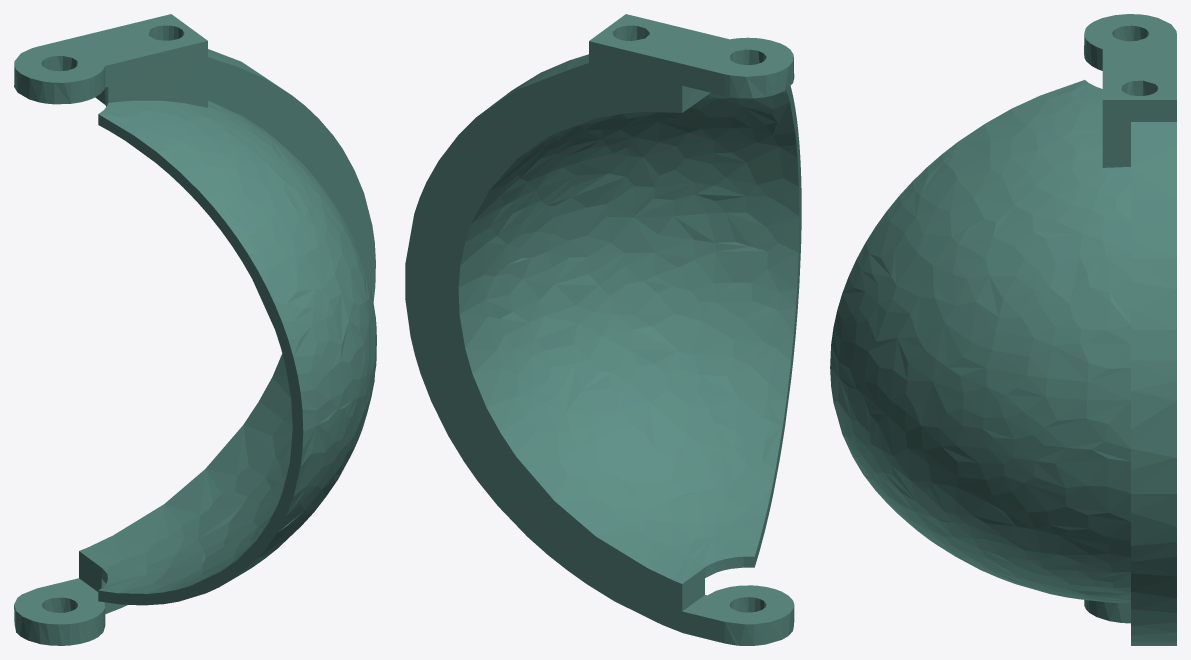
Rendered from i02_head_left_bottom_eyelid_visual.obj.
The picture shows the model from 3 angles, left to right: view 1: azimuth 30°, elevation 25°; view 2: azimuth 150°, elevation 25°; view 3: azimuth 270°, elevation 25°; orthographic projection.
Parts seen in each view (by area): view 1: i02_head_left_bottom_eyelid_visual.001; view 2: i02_head_left_bottom_eyelid_visual.001; view 3: i02_head_left_bottom_eyelid_visual.001.
Part boxes in pixels (bbox=[...]): i02_head_left_bottom_eyelid_visual.001: bbox=[14, 14, 376, 645]; i02_head_left_bottom_eyelid_visual.001: bbox=[405, 14, 801, 645]; i02_head_left_bottom_eyelid_visual.001: bbox=[830, 14, 1176, 645].
Bounding box in the file's own units: 0.2114 × 0.3195 × 0.1761.
